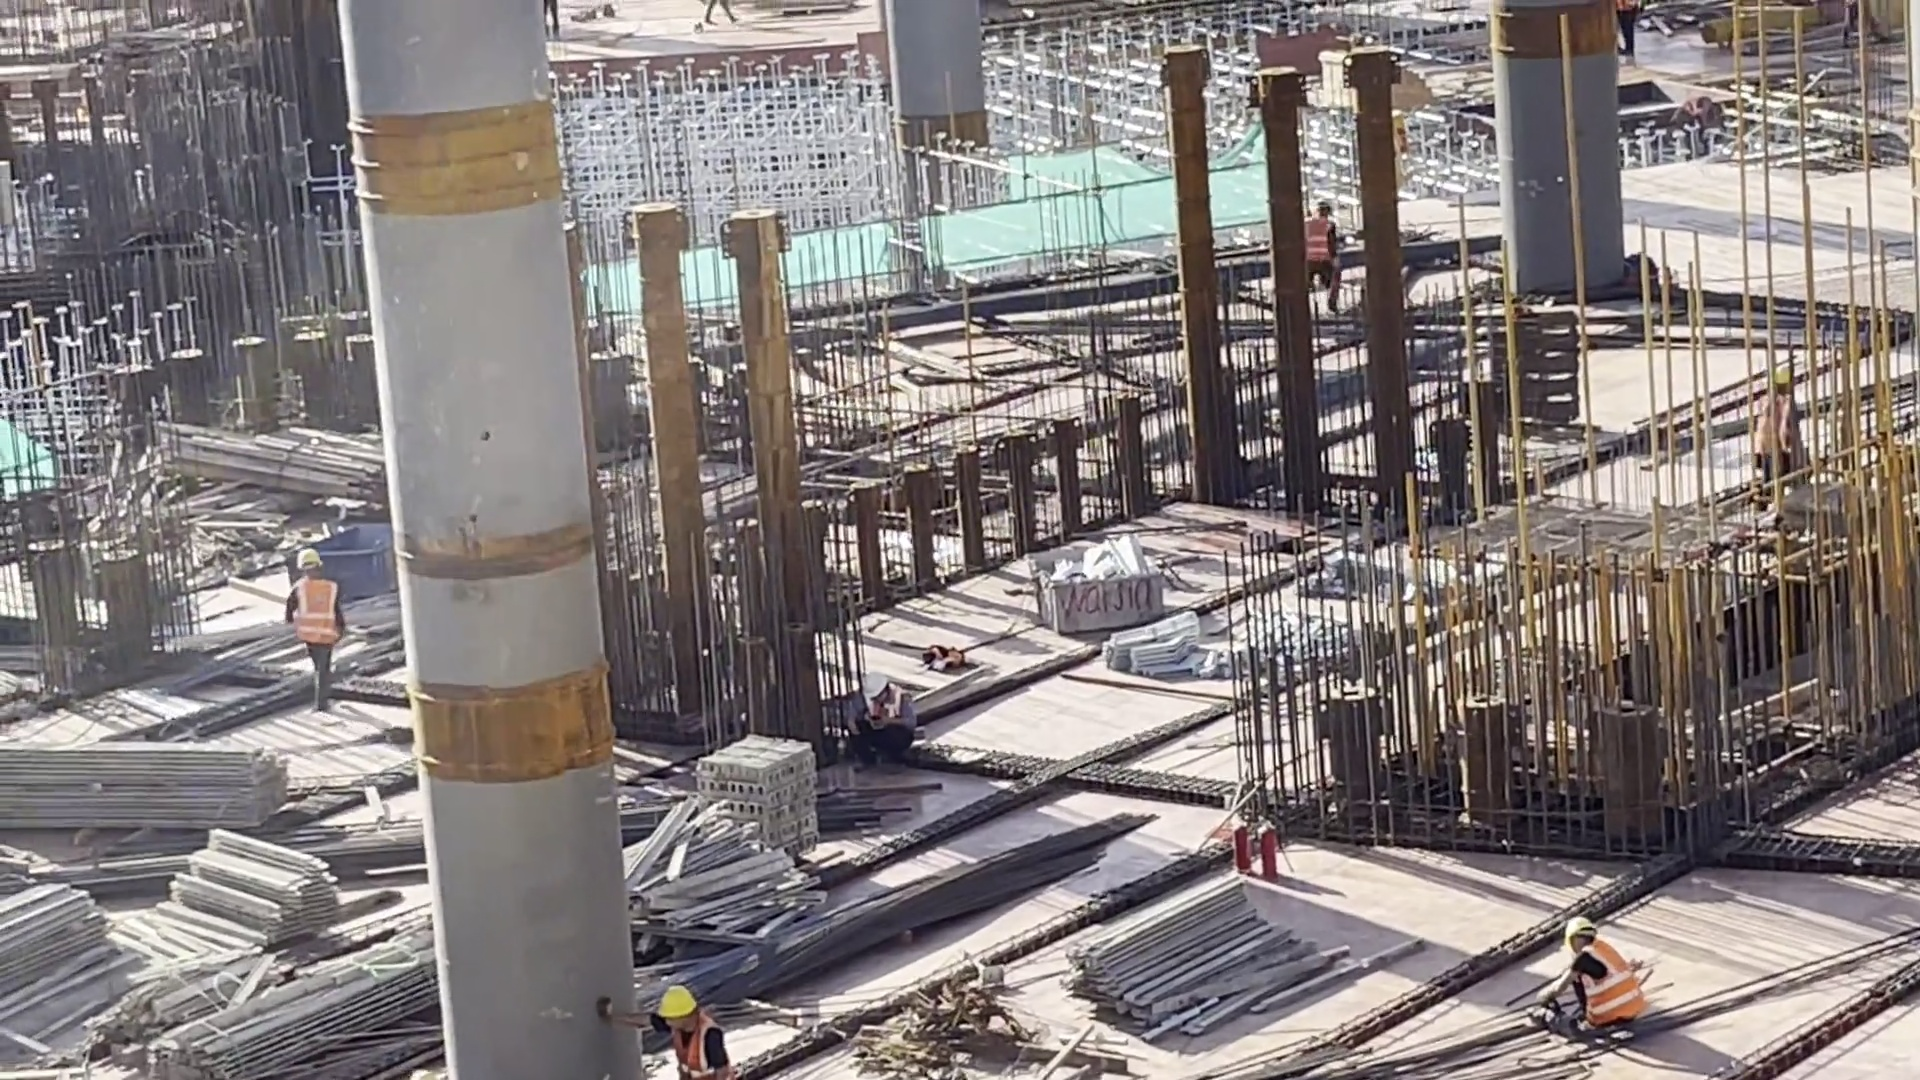helmet: (658, 983, 697, 1019), (1555, 908, 1592, 945), (1764, 350, 1793, 390), (855, 664, 888, 698), (292, 545, 323, 576), (1319, 195, 1343, 212)
hopper: (1025, 527, 1164, 639), (317, 512, 412, 591)
person: (1538, 901, 1670, 1054), (274, 545, 360, 709), (829, 663, 908, 772), (649, 974, 721, 1080), (1745, 360, 1801, 478), (1295, 206, 1340, 301)
vest: (1577, 942, 1654, 1030), (273, 576, 352, 652), (659, 1005, 729, 1080), (1755, 393, 1803, 461), (1304, 220, 1337, 254)
wood: (136, 915, 441, 1069), (1071, 871, 1340, 1043), (1, 728, 293, 853), (164, 830, 354, 942)
